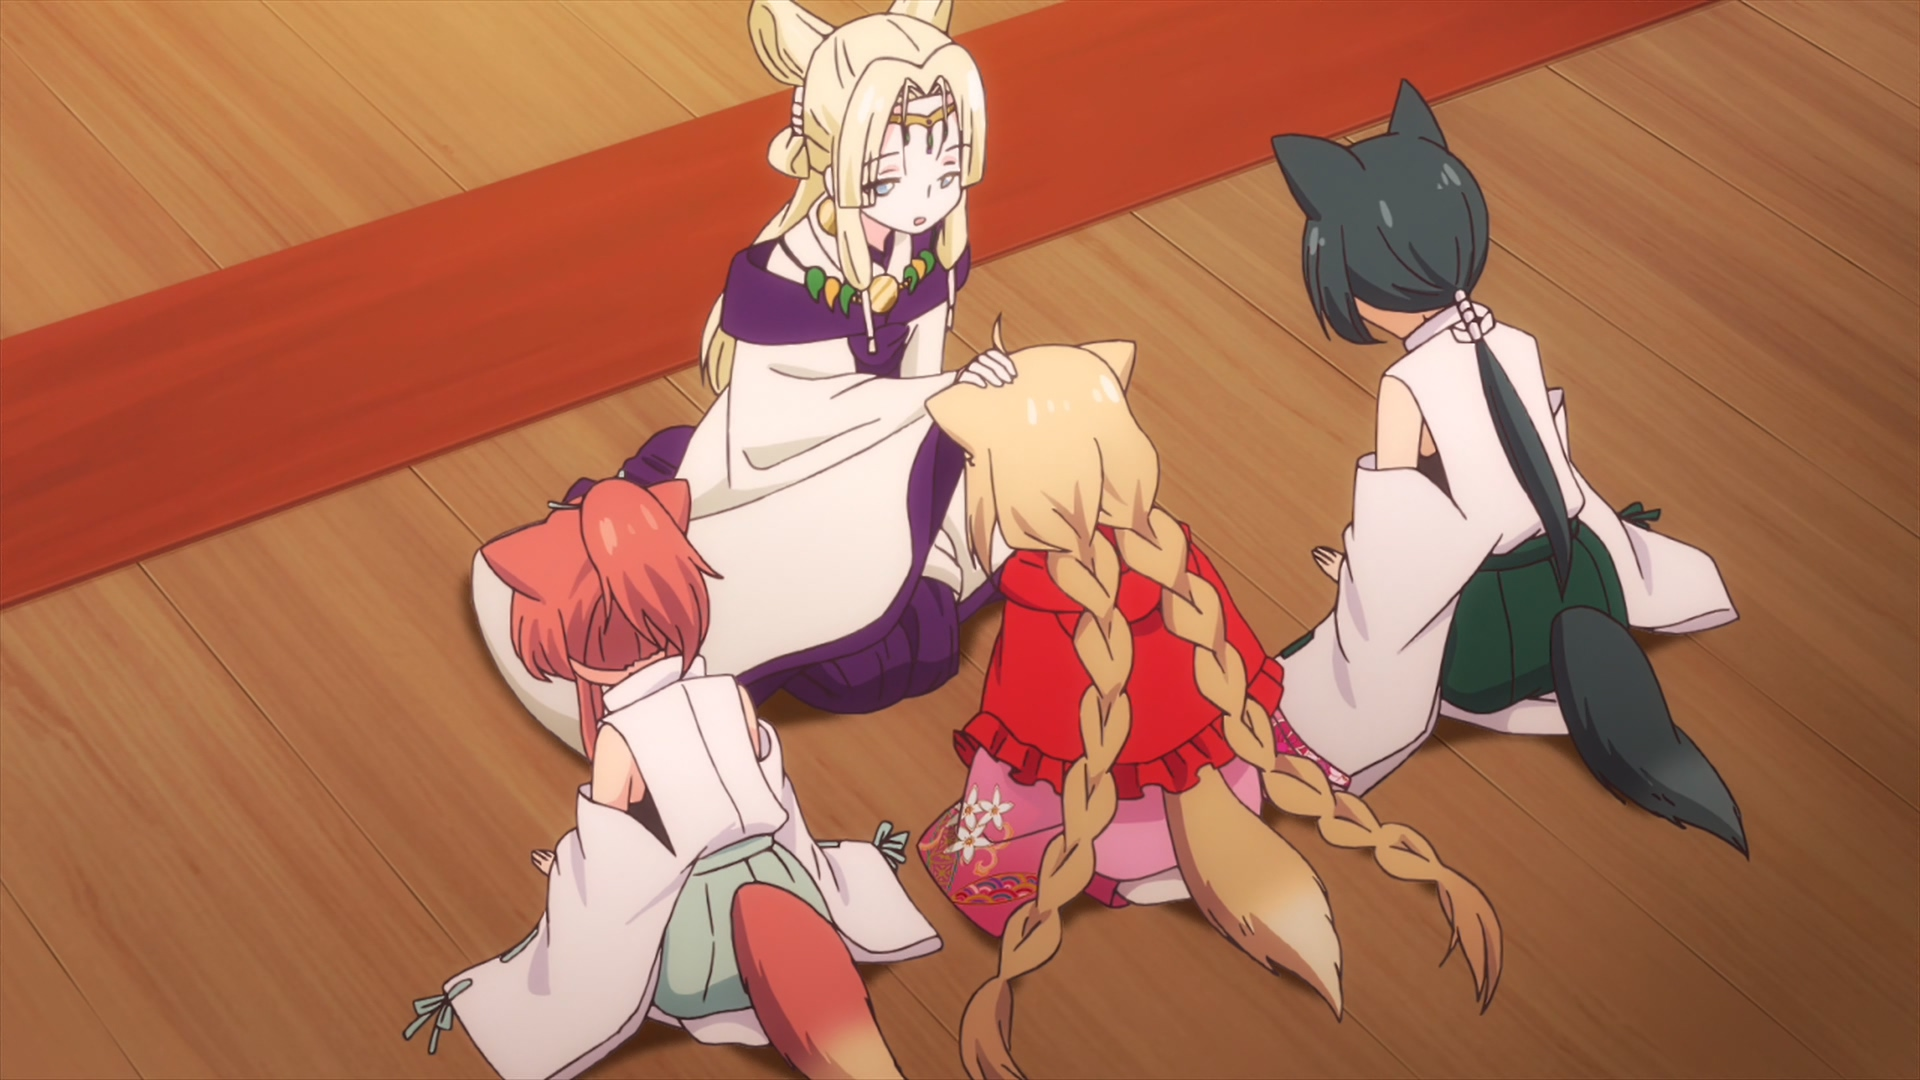其他: (471, 1, 1018, 767), (1267, 80, 1753, 860)
柚: (919, 313, 1502, 1080)
椿: (401, 471, 945, 1080)
